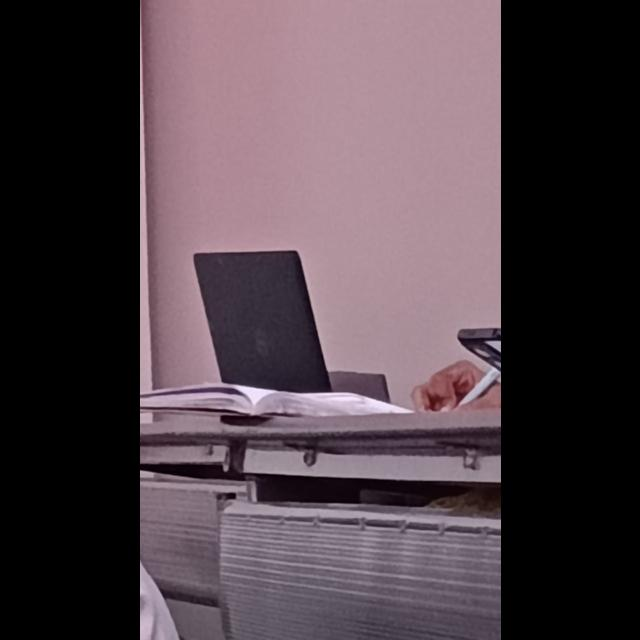laptop: (175, 248, 382, 386)
